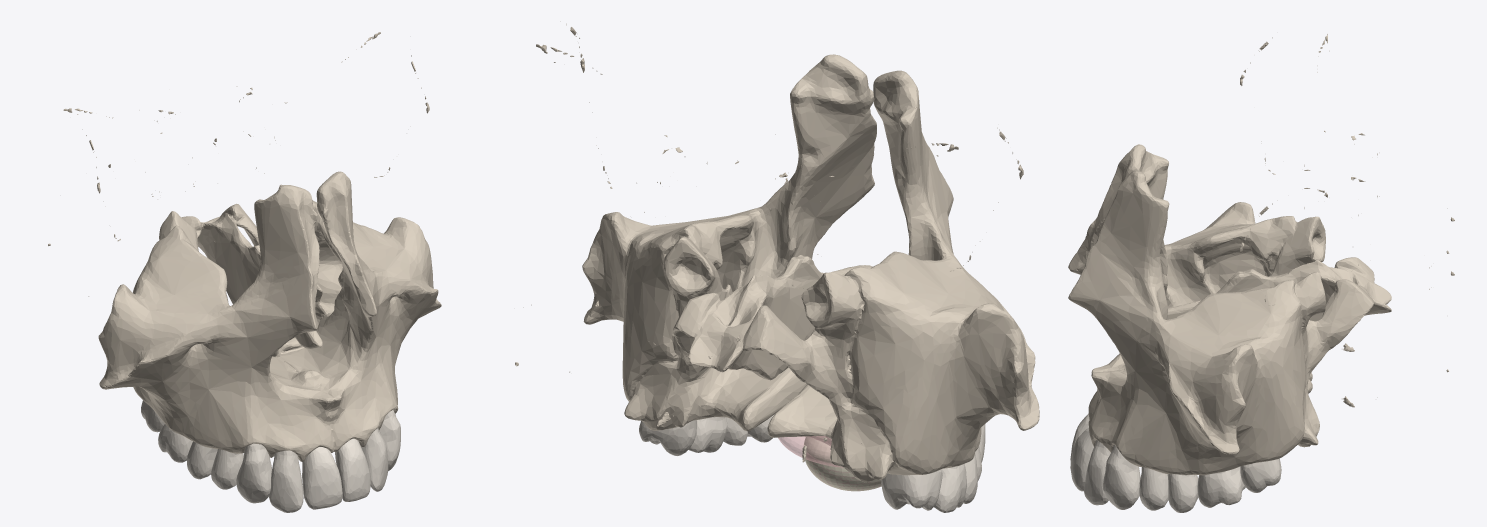
3 views of the same model, side by side, from view 1: azimuth 30°, elevation 25°; view 2: azimuth 150°, elevation 25°; view 3: azimuth 270°, elevation 25° (orthographic). The views are drawn at different scales.
Parts seen in each view (by area): view 1: bone, teeth; view 2: bone, teeth, lesion, excised_mucoperiosteum, sphenoid; view 3: bone, teeth, sphenoid.
Boxes of the visible parts, x1,y1,x2,y2 form: bone: (98, 171, 441, 461); teeth: (141, 400, 400, 512); bone: (582, 54, 1039, 482); teeth: (639, 414, 985, 512); lesion: (804, 437, 881, 491); excised_mucoperiosteum: (778, 436, 881, 491); sphenoid: (515, 21, 1023, 462); bone: (1068, 144, 1391, 475); teeth: (1070, 413, 1281, 512); sphenoid: (1240, 34, 1454, 407).
Size of the model in its own units: 0.108 by 0.092 by 0.0904.
